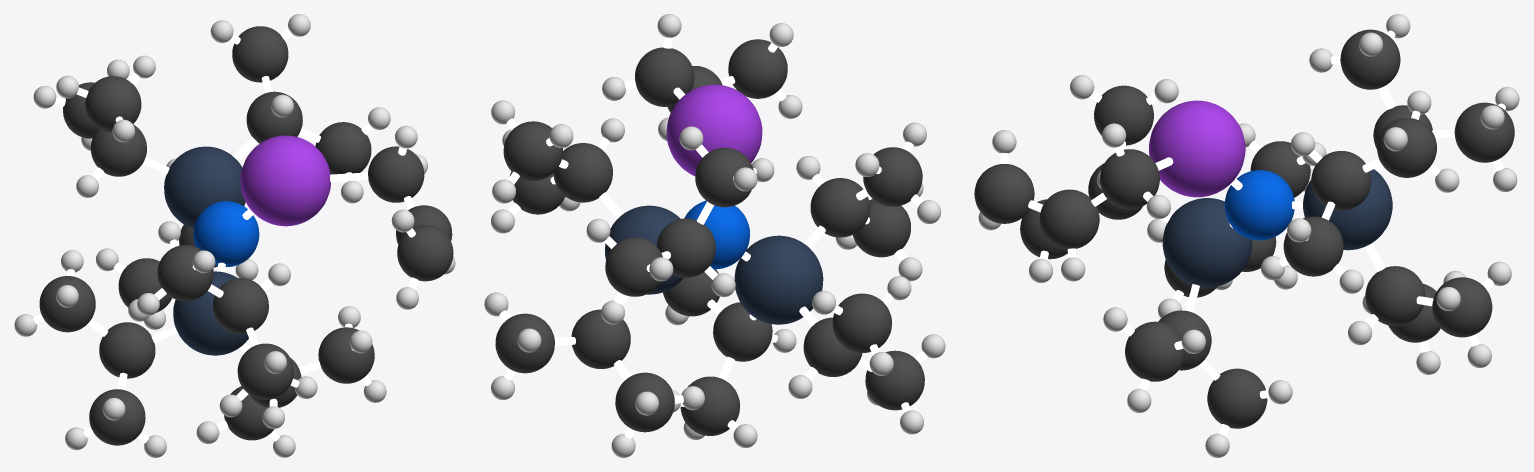
The model's file is molecule.glb.
3 renders of one model, left to right at view 1: azimuth 30°, elevation 25°; view 2: azimuth 150°, elevation 25°; view 3: azimuth 270°, elevation 25°, orthographic. The views are drawn at different scales.
Visible parts, largest first — view 1: Mg_1, Si_2, Sticks, N_1, Si_1, C_1, C_21, C_17, C_7, C_19, C_15, C_18 (+12 smaller); view 2: Si_1, Mg_1, Sticks, C_21, C_2, C_7, C_19, C_16, C_17, C_13, C_10, C_8 (+40 smaller); view 3: Mg_1, Si_1, Sticks, N_1, Si_2, C_20, C_21, C_5, C_10, C_16, C_6, C_19 (+14 smaller).
Part boxes in pixels (left/top/right/bottom): Mg_1: left=240, top=135, right=330, bottom=226; Si_2: left=164, top=146, right=245, bottom=228; Sticks: left=33, top=29, right=418, bottom=442; N_1: left=193, top=201, right=259, bottom=266; Si_1: left=173, top=271, right=248, bottom=355; C_1: left=99, top=322, right=155, bottom=378; C_21: left=397, top=225, right=453, bottom=281; C_17: left=232, top=26, right=288, bottom=82; C_7: left=212, top=278, right=268, bottom=334; C_19: left=368, top=146, right=424, bottom=202; C_15: left=85, top=76, right=141, bottom=132; C_18: left=315, top=122, right=371, bottom=174; Si_1: left=734, top=235, right=823, bottom=324; Mg_1: left=666, top=84, right=762, bottom=176; Sticks: left=499, top=37, right=927, bottom=438; C_21: left=728, top=39, right=787, bottom=98; C_2: left=832, top=293, right=891, bottom=352; C_7: left=810, top=178, right=869, bottom=237; C_19: left=635, top=47, right=694, bottom=106; C_16: left=553, top=143, right=612, bottom=202; C_17: left=503, top=121, right=562, bottom=180; C_13: left=656, top=218, right=715, bottom=277; C_10: left=571, top=309, right=630, bottom=368; C_8: left=863, top=147, right=922, bottom=206; Mg_1: left=1149, top=100, right=1245, bottom=197; Si_1: left=1162, top=198, right=1252, bottom=287; Sticks: left=1000, top=30, right=1505, bottom=436; N_1: left=1224, top=170, right=1294, bottom=240; Si_2: left=1303, top=169, right=1392, bottom=250; C_20: left=1039, top=189, right=1099, bottom=249; C_21: left=974, top=164, right=1034, bottom=223; C_5: left=1207, top=368, right=1267, bottom=428; C_10: left=1365, top=266, right=1425, bottom=326; C_16: left=1311, top=151, right=1371, bottom=210; C_6: left=1125, top=321, right=1184, bottom=381; C_19: left=1100, top=149, right=1159, bottom=209.
Bounding box in the file's own units: 8.41 × 7.9 × 10.06.
